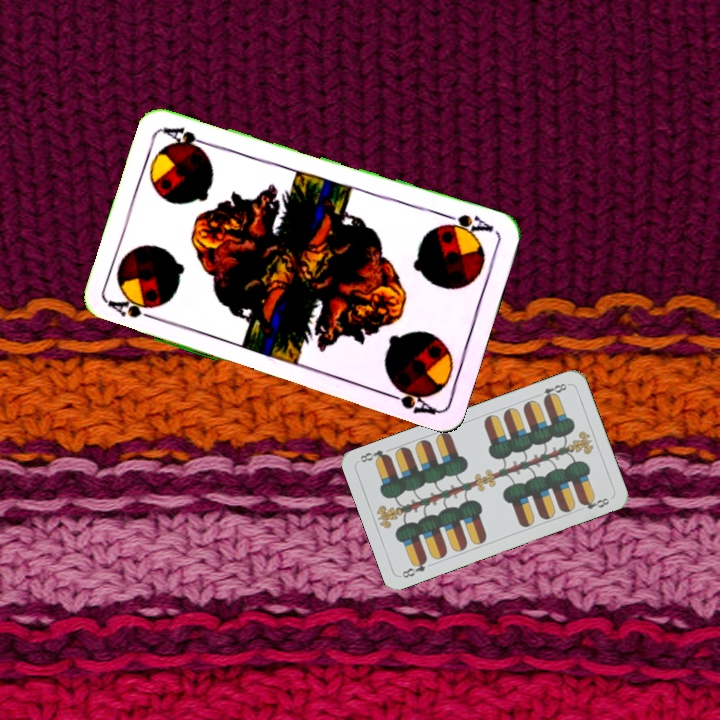E8: (532, 379, 571, 403), (398, 555, 430, 581)
SA: (436, 209, 496, 241), (106, 292, 164, 324)
